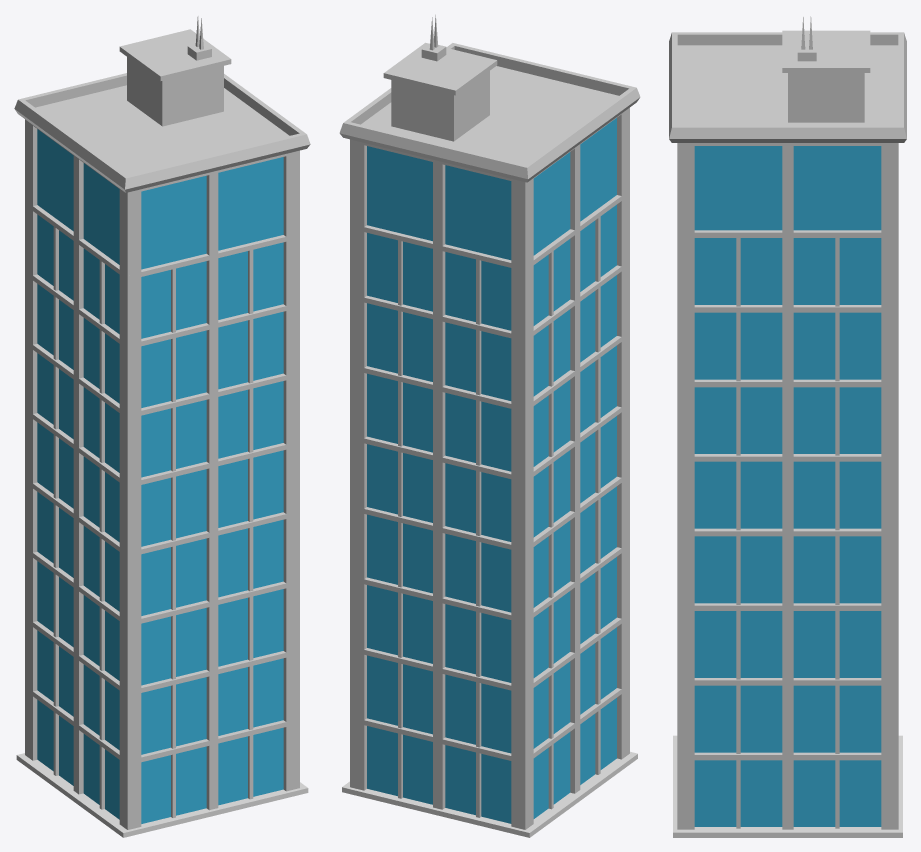
Rendered from Chroma Skyscraper A.fbx.
3 views of the same model, side by side, from view 1: azimuth 30°, elevation 25°; view 2: azimuth 150°, elevation 25°; view 3: azimuth 270°, elevation 25° (orthographic). The views are drawn at different scales.
Parts seen in each view (by area): view 1: Skyscraper Story, Skyscraper Cap, Skyscraper Base; view 2: Skyscraper Story, Skyscraper Cap, Skyscraper Base; view 3: Skyscraper Story, Skyscraper Cap, Skyscraper Base.
Part boxes in pixels (x1,y1,x2,y2): Skyscraper Story: (25,200,299,829); Skyscraper Cap: (14,16,310,275); Skyscraper Base: (16,753,308,837); Skyscraper Story: (350,190,629,829); Skyscraper Cap: (339,14,640,266); Skyscraper Base: (342,751,637,837); Skyscraper Story: (677,230,898,829); Skyscraper Cap: (669,16,906,232); Skyscraper Base: (673,735,902,837).
Size of the model in its own units: 603 by 2305 by 622.
